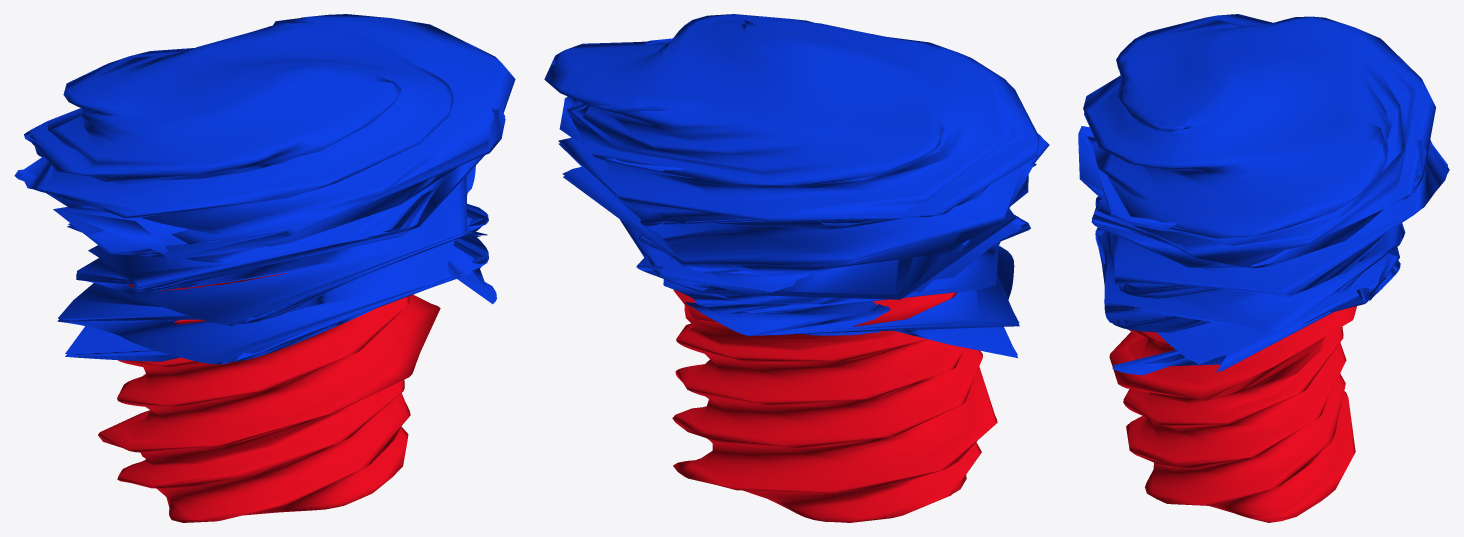
3 views of the same model, side by side, from view 1: azimuth 30°, elevation 25°; view 2: azimuth 150°, elevation 25°; view 3: azimuth 270°, elevation 25° (orthographic). The views are drawn at different scales.
Visible parts, largest first — view 1: Cube.001, Cube; view 2: Cube.001, Cube; view 3: Cube.001, Cube.
Part boxes in pixels (x1,y1,x2,y2): Cube.001: (14, 14, 515, 364); Cube: (98, 273, 440, 522); Cube.001: (544, 14, 1049, 357); Cube: (672, 290, 997, 522); Cube.001: (1078, 14, 1449, 375); Cube: (1109, 306, 1356, 522).
Size of the model in its own units: 267 by 233 by 193.
